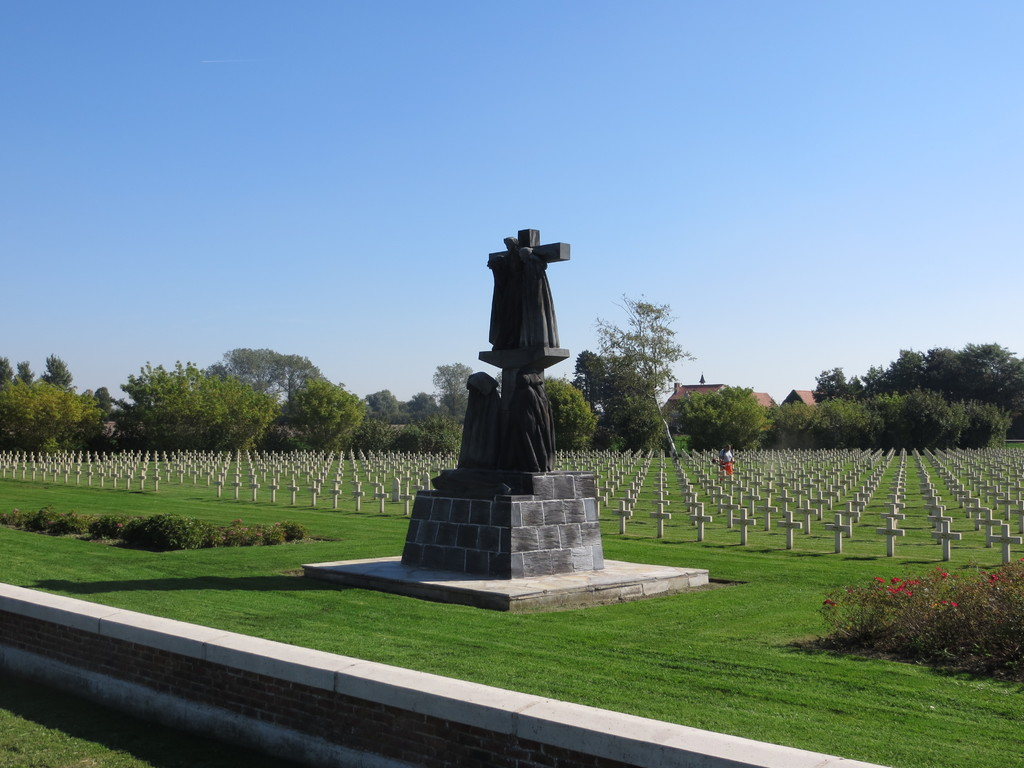Tree: (807, 336, 1006, 455), (594, 291, 696, 457), (122, 357, 280, 452), (0, 351, 101, 453), (288, 362, 363, 456), (220, 343, 312, 395)
